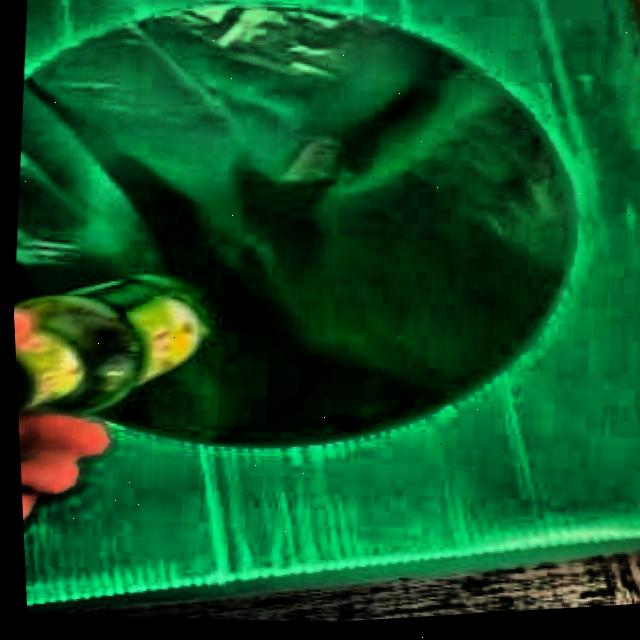glass: (12, 277, 204, 415)
